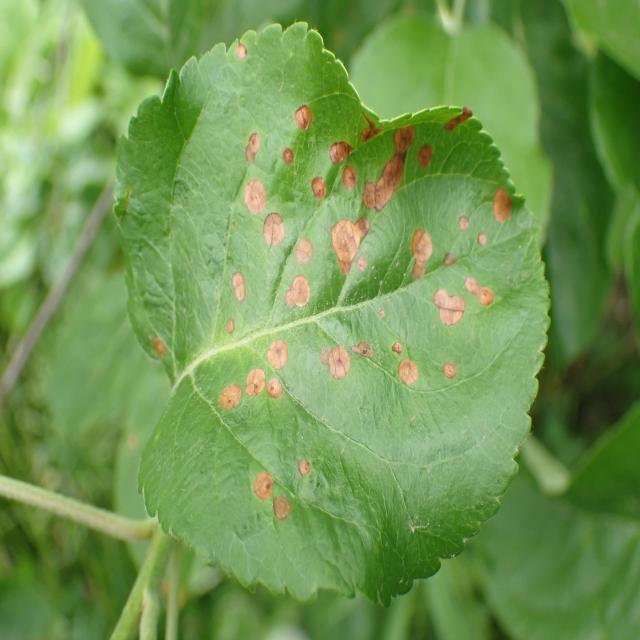frog-eye-leaf-spot: (113, 18, 551, 611)
